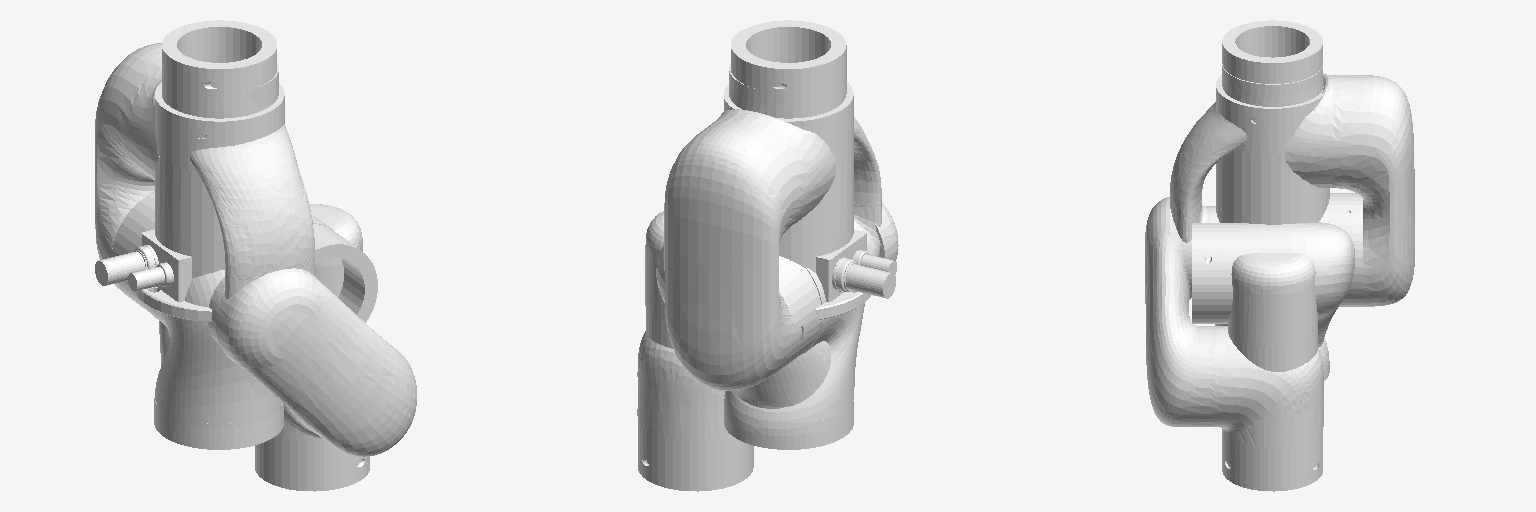
URDF robot description (xarm7):
<?xml version="1.0" ?>
<!-- =================================================================================== -->
<!-- |    This document was autogenerated by xacro from xarm7_robot.urdf.xacro         | -->
<!-- |    EDITING THIS FILE BY HAND IS NOT RECOMMENDED                                 | -->
<!-- =================================================================================== -->
<robot name="xarm7" xmlns:xacro="http://ros.org/wiki/xacro">
  <!--
  Author: Jimy Zhang <[email redacted]> <[email redacted]>
  Contributers:
-->
  <gazebo>
    <plugin filename="libgazebo_ros_control.so" name="gazebo_ros_control">
      <robotNamespace>/xarm</robotNamespace>
      <!-- <controlPeriod>0.0001</controlPeriod> -->
      <robotSimType>gazebo_ros_control/DefaultRobotHWSim</robotSimType>
      <legacyModeNS>true</legacyModeNS>
      <!-- <preserveWorldVelocity>true</preserveWorldVelocity> -->
    </plugin>
  </gazebo>
  <link name="linkbase">
    <inertial>
      <origin rpy="0 0 0" xyz="-0.021131 -0.0016302 0.056488"/>
      <mass value="0.88556"/>
      <inertia ixx="0.0030595" ixy="0.00012259" ixz="-0.00062705" iyy="0.0037783" iyz="0.00027023" izz="0.0020125"/>
    </inertial>
    <visual>
      <origin rpy="0 0 0" xyz="0 0 0"/>
      <geometry>
        <mesh filename="visual/linkbase_smooth.obj"/>
      </geometry>
      <material>
        <color rgba="1.0 1.0 1.0 1.0"/>
      </material>
    </visual>
    <collision>
      <origin rpy="0 0 0" xyz="0 0 0"/>
      <geometry>
        <mesh filename="collision/linkbase.obj"/>
      </geometry>
    </collision>
  </link>
  <link name="link1">
    <inertial>
      <origin rpy="0 0 0" xyz="-0.0042142 0.02821 -0.0087788"/>
      <mass value="0.42603"/>
      <inertia ixx="0.0014243" ixy="3.9946E-05" ixz="4.7078E-06" iyy="0.00123" iyz="-0.00026073" izz="0.00099229"/>
    </inertial>
    <visual>
      <origin rpy="0 0 0" xyz="0 0 0"/>
      <geometry>
        <mesh filename="visual/link1_smooth.obj"/>
      </geometry>
      <material>
        <color rgba="1.0 1.0 1.0 1.0"/>
      </material>
    </visual>
    <collision>
      <origin rpy="0 0 0" xyz="0 0 0"/>
      <geometry>
        <mesh filename="collision/link1_vhacd.obj"/>
      </geometry>
    </collision>
  </link>
  <joint name="joint1" type="revolute">
    <origin rpy="0 0 0" xyz="0 0 0.267"/>
    <parent link="linkbase"/>
    <child link="link1"/>
    <axis xyz="0 0 1"/>
    <limit effort="50" lower="-6.28318530718" upper="6.28318530718" velocity="3.14"/>
    <dynamics damping="10" friction="1"/>
  </joint>
  <link name="link2">
    <inertial>
      <origin rpy="0 0 0" xyz="-3.3178E-05 -0.12849 0.026337"/>
      <mass value="0.56095"/>
      <inertia ixx="0.0031915" ixy="3.0892E-06" ixz="2.8729E-06" iyy="0.0017468" iyz="-0.0010241" izz="0.00235"/>
    </inertial>
    <visual>
      <origin rpy="0 0 0" xyz="0 0 0"/>
      <geometry>
        <mesh filename="visual/link2_smooth.obj"/>
      </geometry>
      <material>
        <color rgba="1.0 1.0 1.0 1.0"/>
      </material>
    </visual>
    <collision>
      <origin rpy="0 0 0" xyz="0 0 0"/>
      <geometry>
        <mesh filename="collision/link2_vhacd.obj"/>
      </geometry>
    </collision>
  </link>
  <joint name="joint2" type="revolute">
    <origin rpy="-1.5708 0 0" xyz="0 0 0"/>
    <parent link="link1"/>
    <child link="link2"/>
    <axis xyz="0 0 1"/>
    <limit effort="50" lower="-2.059" upper="2.0944" velocity="3.14"/>
    <dynamics damping="10" friction="1"/>
  </joint>
  <link name="link3">
    <inertial>
      <origin rpy="0 0 0" xyz="0.04223 -0.023258 -0.0096674"/>
      <mass value="0.44463"/>
      <inertia ixx="0.0011454" ixy="0.0001654" ixz="-0.0001951" iyy="0.0010503" iyz="0.00012027" izz="0.0011083"/>
    </inertial>
    <visual>
      <origin rpy="0 0 0" xyz="0 0 0"/>
      <geometry>
        <mesh filename="visual/link3_smooth.obj"/>
      </geometry>
      <material>
        <color rgba="1.0 1.0 1.0 1.0"/>
      </material>
    </visual>
    <collision>
      <origin rpy="0 0 0" xyz="0 0 0"/>
      <geometry>
        <mesh filename="collision/link3_vhacd.obj"/>
      </geometry>
    </collision>
  </link>
  <joint name="joint3" type="revolute">
    <origin rpy="1.5708 0 0" xyz="0 -0.293 0"/>
    <parent link="link2"/>
    <child link="link3"/>
    <axis xyz="0 0 1"/>
    <limit effort="30" lower="-6.28318530718" upper="6.28318530718" velocity="3.14"/>
    <dynamics damping="5" friction="1"/>
  </joint>
  <link name="link4">
    <inertial>
      <origin rpy="0 0 0" xyz="0.067148 -0.10732 0.024479"/>
      <mass value="0.52387"/>
      <inertia ixx="0.0026033" ixy="0.00053379" ixz="0.00036314" iyy="0.0017649" iyz="-0.00083253" izz="0.0022431"/>
    </inertial>
    <visual>
      <origin rpy="0 0 0" xyz="0 0 0"/>
      <geometry>
        <mesh filename="visual/link4_smooth.obj"/>
      </geometry>
      <material>
        <color rgba="1.0 1.0 1.0 1.0"/>
      </material>
    </visual>
    <collision>
      <origin rpy="0 0 0" xyz="0 0 0"/>
      <geometry>
        <mesh filename="collision/link4_vhacd.obj"/>
      </geometry>
    </collision>
  </link>
  <joint name="joint4" type="revolute">
    <origin rpy="1.5708 0 0" xyz="0.0525 0 0"/>
    <parent link="link3"/>
    <child link="link4"/>
    <axis xyz="0 0 1"/>
    <limit effort="30" lower="-0.19198" upper="3.927" velocity="3.14"/>
    <dynamics damping="5" friction="1"/>
  </joint>
  <link name="link5">
    <inertial>
      <origin rpy="0 0 0" xyz="-0.00023397 0.036705 -0.080064"/>
      <mass value="0.18554"/>
      <inertia ixx="0.00099549" ixy="8.9957E-07" ixz="8.5285E-07" iyy="0.0008853" iyz="-0.00025682" izz="0.00035048"/>
    </inertial>
    <visual>
      <origin rpy="0 0 0" xyz="0 0 0"/>
      <geometry>
        <mesh filename="visual/link5_smooth.obj"/>
      </geometry>
      <material>
        <color rgba="1.0 1.0 1.0 1.0"/>
      </material>
    </visual>
    <collision>
      <origin rpy="0 0 0" xyz="0 0 0"/>
      <geometry>
        <mesh filename="collision/link5_vhacd.obj"/>
      </geometry>
    </collision>
  </link>
  <joint name="joint5" type="revolute">
    <origin rpy="1.5708 0 0" xyz="0.0775 -0.3425 0"/>
    <parent link="link4"/>
    <child link="link5"/>
    <axis xyz="0 0 1"/>
    <limit effort="30" lower="-6.28318530718" upper="6.28318530718" velocity="3.14"/>
    <dynamics damping="5" friction="1"/>
  </joint>
  <link name="link6">
    <inertial>
      <origin rpy="0 0 0" xyz="0.058911 0.028469 0.0068428"/>
      <mass value="0.31344"/>
      <inertia ixx="0.00052034" ixy="-0.00014989" ixz="0.00011658" iyy="0.00067968" iyz="6.116E-05" izz="0.00078345"/>
    </inertial>
    <visual>
      <origin rpy="0 0 0" xyz="0 0 0"/>
      <geometry>
        <mesh filename="visual/link6_smooth.obj"/>
      </geometry>
      <material>
        <color rgba="1.0 1.0 1.0 1.0"/>
      </material>
    </visual>
    <collision>
      <origin rpy="0 0 0" xyz="0 0 0"/>
      <geometry>
        <mesh filename="collision/link6_vhacd.obj"/>
      </geometry>
    </collision>
  </link>
  <joint name="joint6" type="revolute">
    <origin rpy="1.5708 0 0" xyz="0 0 0"/>
    <parent link="link5"/>
    <child link="link6"/>
    <axis xyz="0 0 1"/>
    <limit effort="20" lower="-1.69297" upper="3.14159265359" velocity="3.14"/>
    <dynamics damping="2" friction="1"/>
  </joint>
  <link name="link7">
    <inertial>
      <origin rpy="0 0 0" xyz="-1.5846E-05 -0.0046377 -0.012705"/>
      <mass value="0.31468"/>
      <inertia ixx="0.00016985" ixy="1.1102E-07" ixz="5.1075E-08" iyy="0.00011924" iyz="-2.1251E-06" izz="0.00026032"/>
    </inertial>
    <visual>
      <origin rpy="0 0 0" xyz="0 0 0"/>
      <geometry>
        <mesh filename="visual/link7_smooth.obj"/>
      </geometry>
      <material>
        <color rgba="0.753 0.753 0.753 1.0"/>
      </material>
    </visual>
    <collision>
      <origin rpy="0 0 0" xyz="0 0 0"/>
      <geometry>
        <mesh filename="collision/link7_vhacd.obj"/>
      </geometry>
    </collision>
  </link>
  <joint name="joint7" type="revolute">
    <origin rpy="-1.5708 0 0" xyz="0.076 0.097 0"/>
    <parent link="link6"/>
    <child link="link7"/>
    <axis xyz="0 0 1"/>
    <limit effort="20" lower="-6.28318530718" upper="6.28318530718" velocity="3.14"/>
    <dynamics damping="2" friction="1"/>
  </joint>
  <transmission name="tran1">
    <type>transmission_interface/SimpleTransmission</type>
    <joint name="joint1">
      <hardwareInterface>hardware_interface/PositionJointInterface</hardwareInterface>
    </joint>
    <actuator name="motor1">
      <hardwareInterface>hardware_interface/PositionJointInterface</hardwareInterface>
      <mechanicalReduction>100</mechanicalReduction>
    </actuator>
  </transmission>
  <transmission name="tran2">
    <type>transmission_interface/SimpleTransmission</type>
    <joint name="joint2">
      <hardwareInterface>hardware_interface/PositionJointInterface</hardwareInterface>
    </joint>
    <actuator name="motor2">
      <hardwareInterface>hardware_interface/PositionJointInterface</hardwareInterface>
      <mechanicalReduction>reduction</mechanicalReduction>
    </actuator>
  </transmission>
  <transmission name="tran3">
    <type>transmission_interface/SimpleTransmission</type>
    <joint name="joint3">
      <hardwareInterface>hardware_interface/PositionJointInterface</hardwareInterface>
    </joint>
    <actuator name="motor3">
      <hardwareInterface>hardware_interface/PositionJointInterface</hardwareInterface>
      <mechanicalReduction>reduction</mechanicalReduction>
    </actuator>
  </transmission>
  <transmission name="tran4">
    <type>transmission_interface/SimpleTransmission</type>
    <joint name="joint4">
      <hardwareInterface>hardware_interface/PositionJointInterface</hardwareInterface>
    </joint>
    <actuator name="motor3">
      <hardwareInterface>hardware_interface/PositionJointInterface</hardwareInterface>
      <mechanicalReduction>reduction</mechanicalReduction>
    </actuator>
  </transmission>
  <transmission name="tran5">
    <type>transmission_interface/SimpleTransmission</type>
    <joint name="joint5">
      <hardwareInterface>hardware_interface/PositionJointInterface</hardwareInterface>
    </joint>
    <actuator name="motor5">
      <hardwareInterface>hardware_interface/PositionJointInterface</hardwareInterface>
      <mechanicalReduction>reduction</mechanicalReduction>
    </actuator>
  </transmission>
  <transmission name="tran6">
    <type>transmission_interface/SimpleTransmission</type>
    <joint name="joint6">
      <hardwareInterface>hardware_interface/PositionJointInterface</hardwareInterface>
    </joint>
    <actuator name="motor6">
      <hardwareInterface>hardware_interface/PositionJointInterface</hardwareInterface>
      <mechanicalReduction>reduction</mechanicalReduction>
    </actuator>
  </transmission>
  <transmission name="tran7">
    <type>transmission_interface/SimpleTransmission</type>
    <joint name="joint7">
      <hardwareInterface>hardware_interface/PositionJointInterface</hardwareInterface>
    </joint>
    <actuator name="motor7">
      <hardwareInterface>hardware_interface/PositionJointInterface</hardwareInterface>
      <mechanicalReduction>reduction</mechanicalReduction>
    </actuator>
  </transmission>
  <gazebo reference="linkbase">
    <selfCollide>true</selfCollide>
  </gazebo>
  <gazebo reference="link1">
    <selfCollide>true</selfCollide>
  </gazebo>
  <gazebo reference="link2">
    <selfCollide>true</selfCollide>
  </gazebo>
  <gazebo reference="link3">
    <selfCollide>true</selfCollide>
  </gazebo>
  <gazebo reference="link4">
    <selfCollide>true</selfCollide>
  </gazebo>
  <gazebo reference="link5">
    <selfCollide>true</selfCollide>
  </gazebo>
  <gazebo reference="link6">
    <selfCollide>true</selfCollide>
  </gazebo>
  <gazebo reference="link7">
    <selfCollide>true</selfCollide>
  </gazebo>
</robot>

--- Render facts (derived) ---
3 views of the same robot in one strip: view 1: azimuth 30°, elevation 25°; view 2: azimuth 150°, elevation 25°; view 3: azimuth 270°, elevation 25° (orthographic).
Robot: xarm7 — 8 links, 7 joints (7 revolute); root link linkbase; default pose: every joint at zero.
Links seen in each view (by area): view 1: link4, link2, linkbase, link1, link5, link3, link6; view 2: link2, link4, link1, linkbase, link5, link3, link6; view 3: link4, link2, linkbase, link3, link6, link5, link1.
Link boxes in pixels (x1,y1,x2,y2): link4: [216, 268, 416, 491]; link2: [95, 20, 276, 294]; linkbase: [95, 82, 284, 321]; link1: [112, 191, 283, 449]; link5: [190, 63, 314, 345]; link3: [159, 214, 377, 365]; link6: [309, 204, 362, 296]; link2: [664, 20, 846, 390]; link4: [637, 203, 898, 491]; link1: [724, 256, 864, 449]; linkbase: [724, 82, 896, 319]; link5: [729, 63, 881, 256]; link3: [656, 246, 830, 408]; link6: [645, 211, 672, 348]; link4: [1145, 197, 1323, 491]; link2: [1222, 20, 1414, 306]; linkbase: [1216, 74, 1329, 224]; link3: [1192, 222, 1354, 347]; link6: [1228, 253, 1317, 371]; link5: [1170, 64, 1323, 242]; link1: [1215, 193, 1362, 380].
Size in the robot's own frame: 21.31 by 22.59 by 35.8 metres.
8 mesh visuals loaded from 8 distinct referenced files (8 OBJ).
